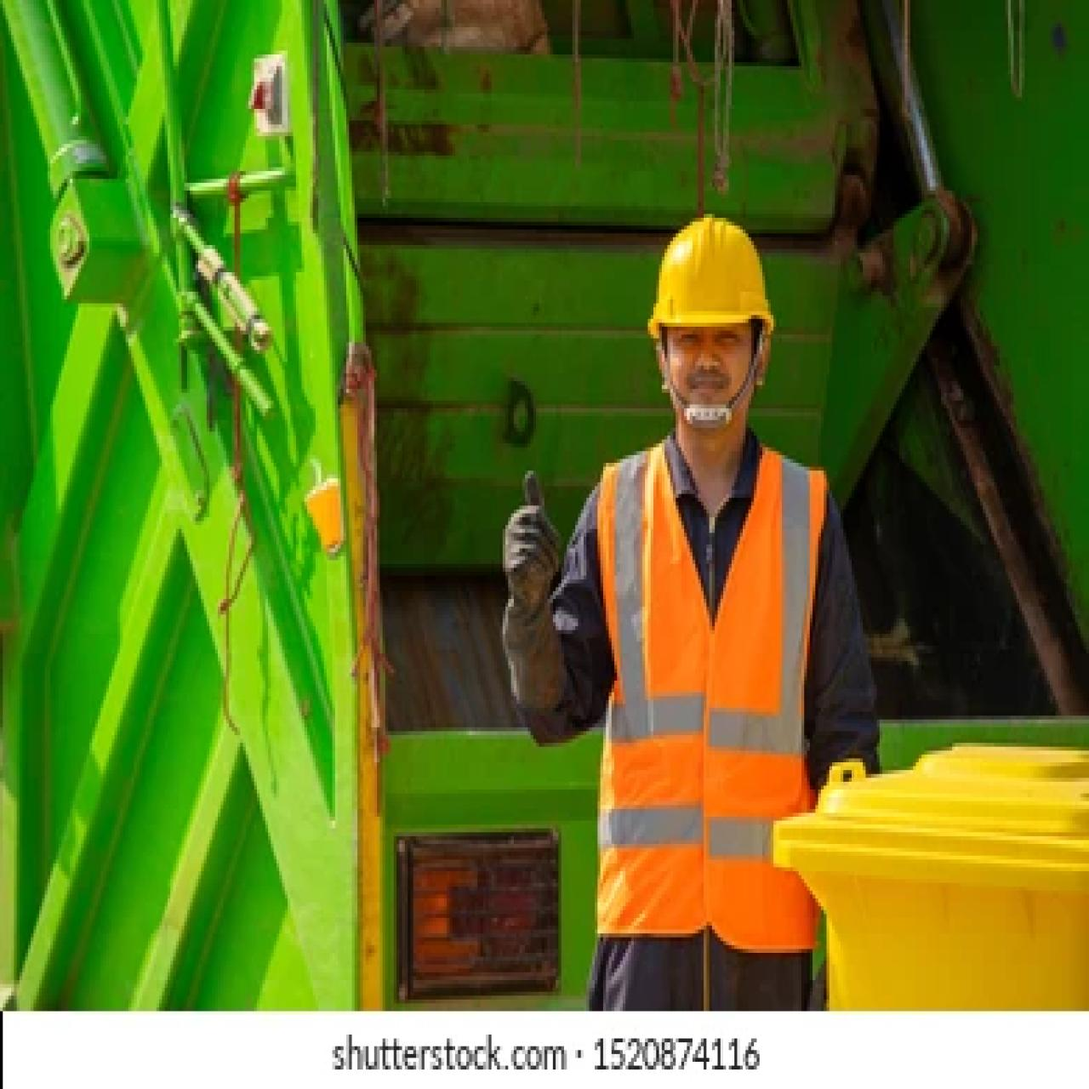Person: (491, 186, 908, 1004)
Safety_Vest: (578, 432, 828, 961)
